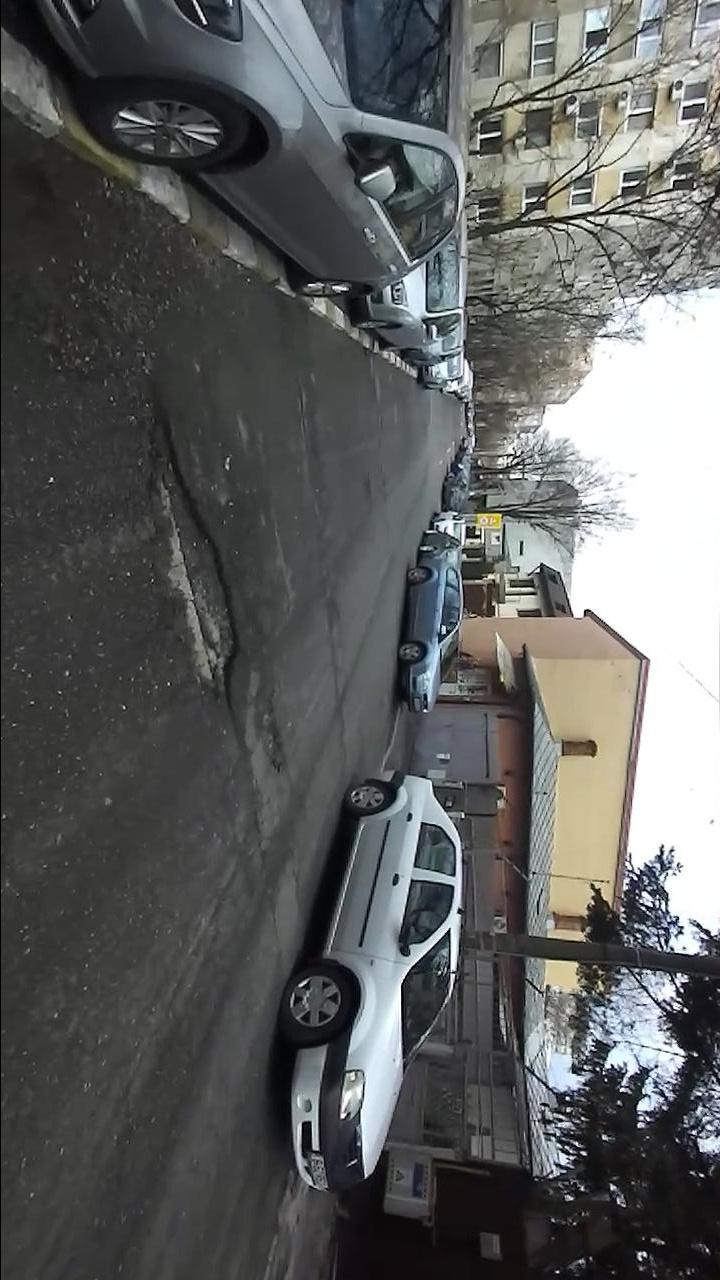pothole: (140, 393, 246, 734), (259, 687, 293, 779)
